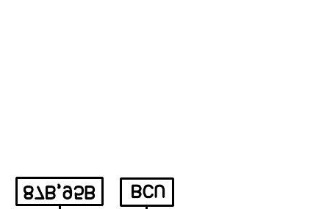BCU: (119, 177, 175, 207)
